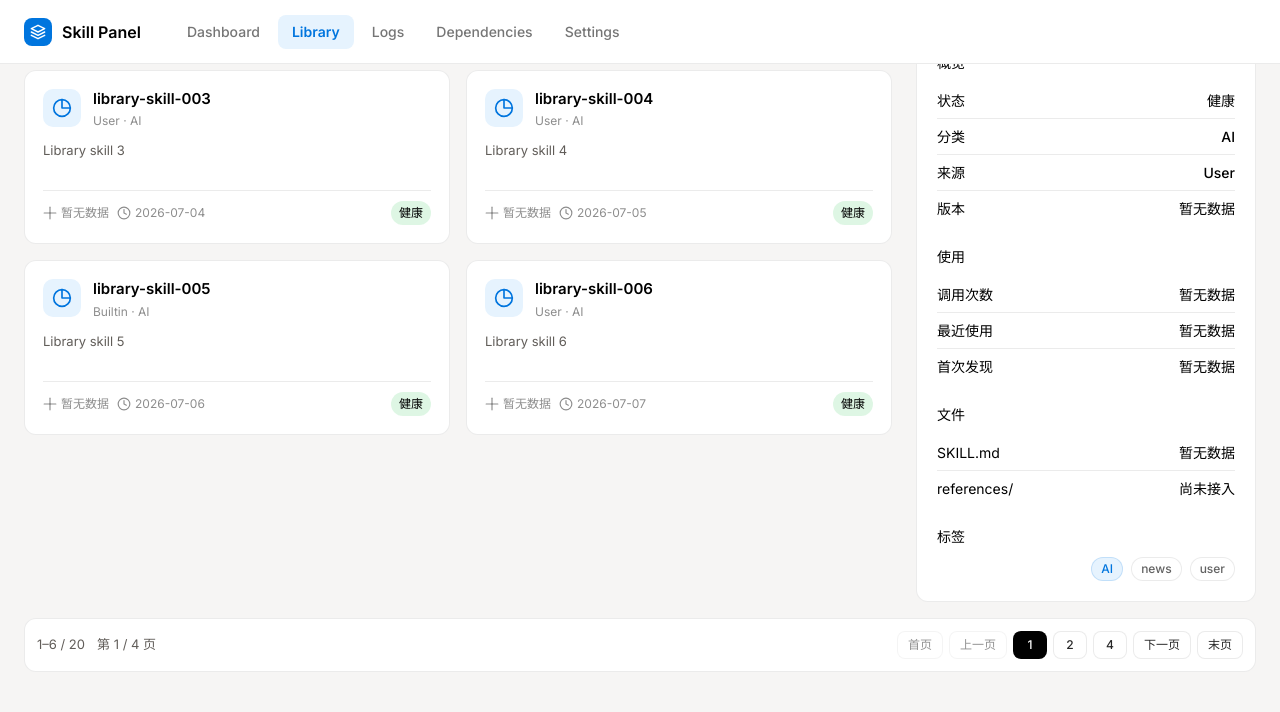
AppShell Tauri event fallback › clamps the current page when filtered results shrink
(page scrolled)
Step 1. Click the button "末页" → (1220, 645), box [1197,631,1243,659]
(page scrolled)
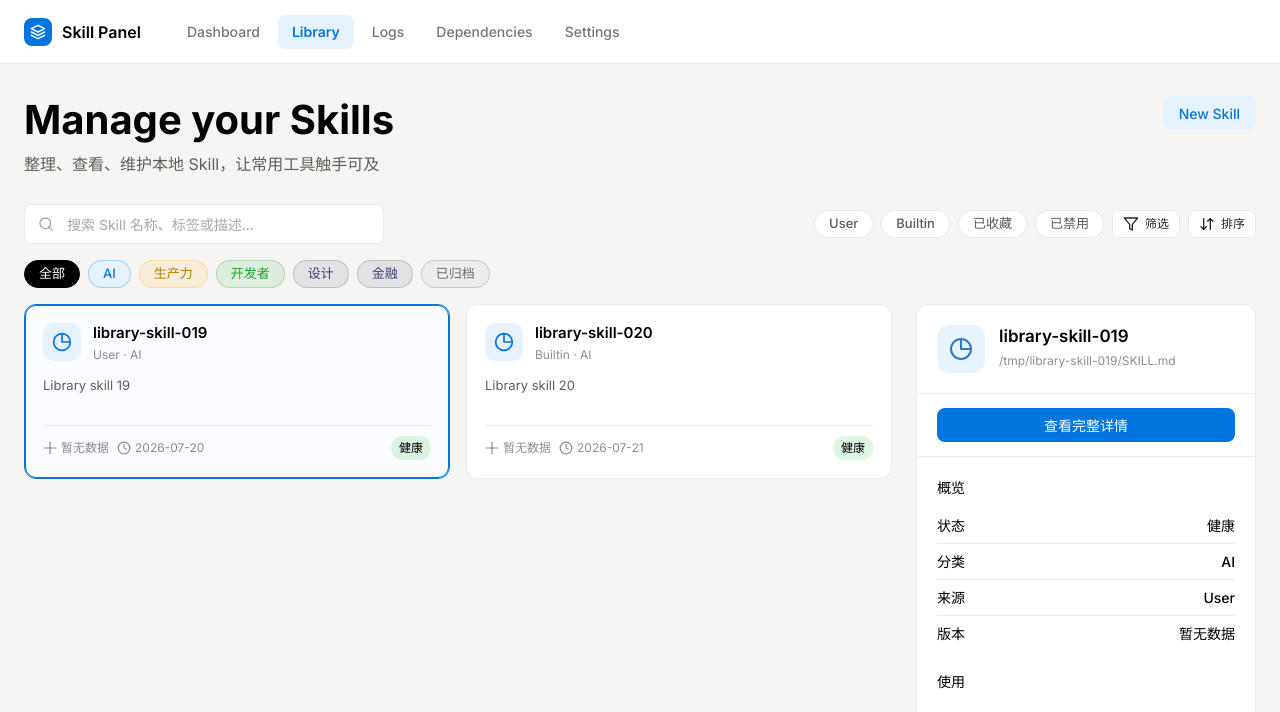
Step 2. Type "001" into the field labelled "搜索 Skill" → (204, 224), box [24,204,384,244]
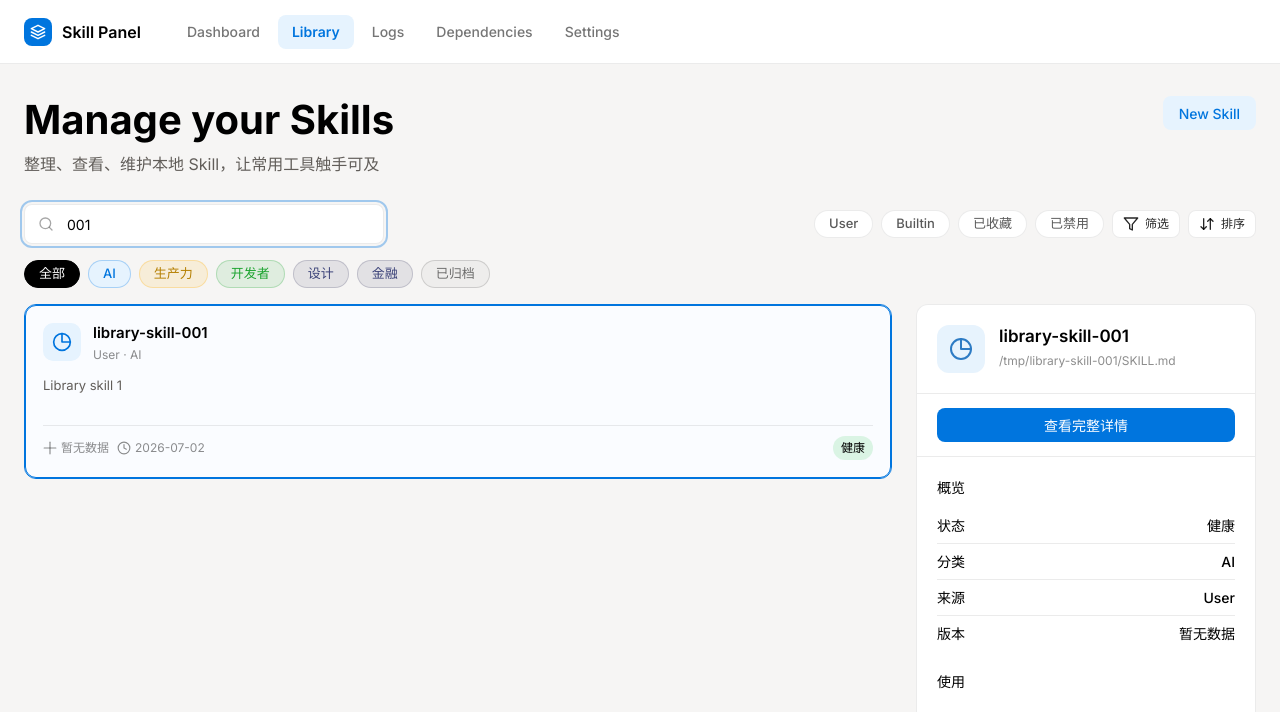
Result: the text "library-skill-001" is shown at [93,323,208,343]
